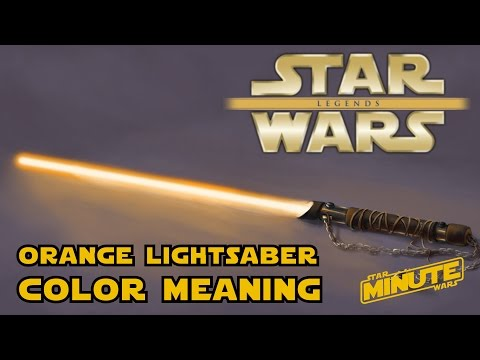lightsaber: (0, 131, 477, 253)
